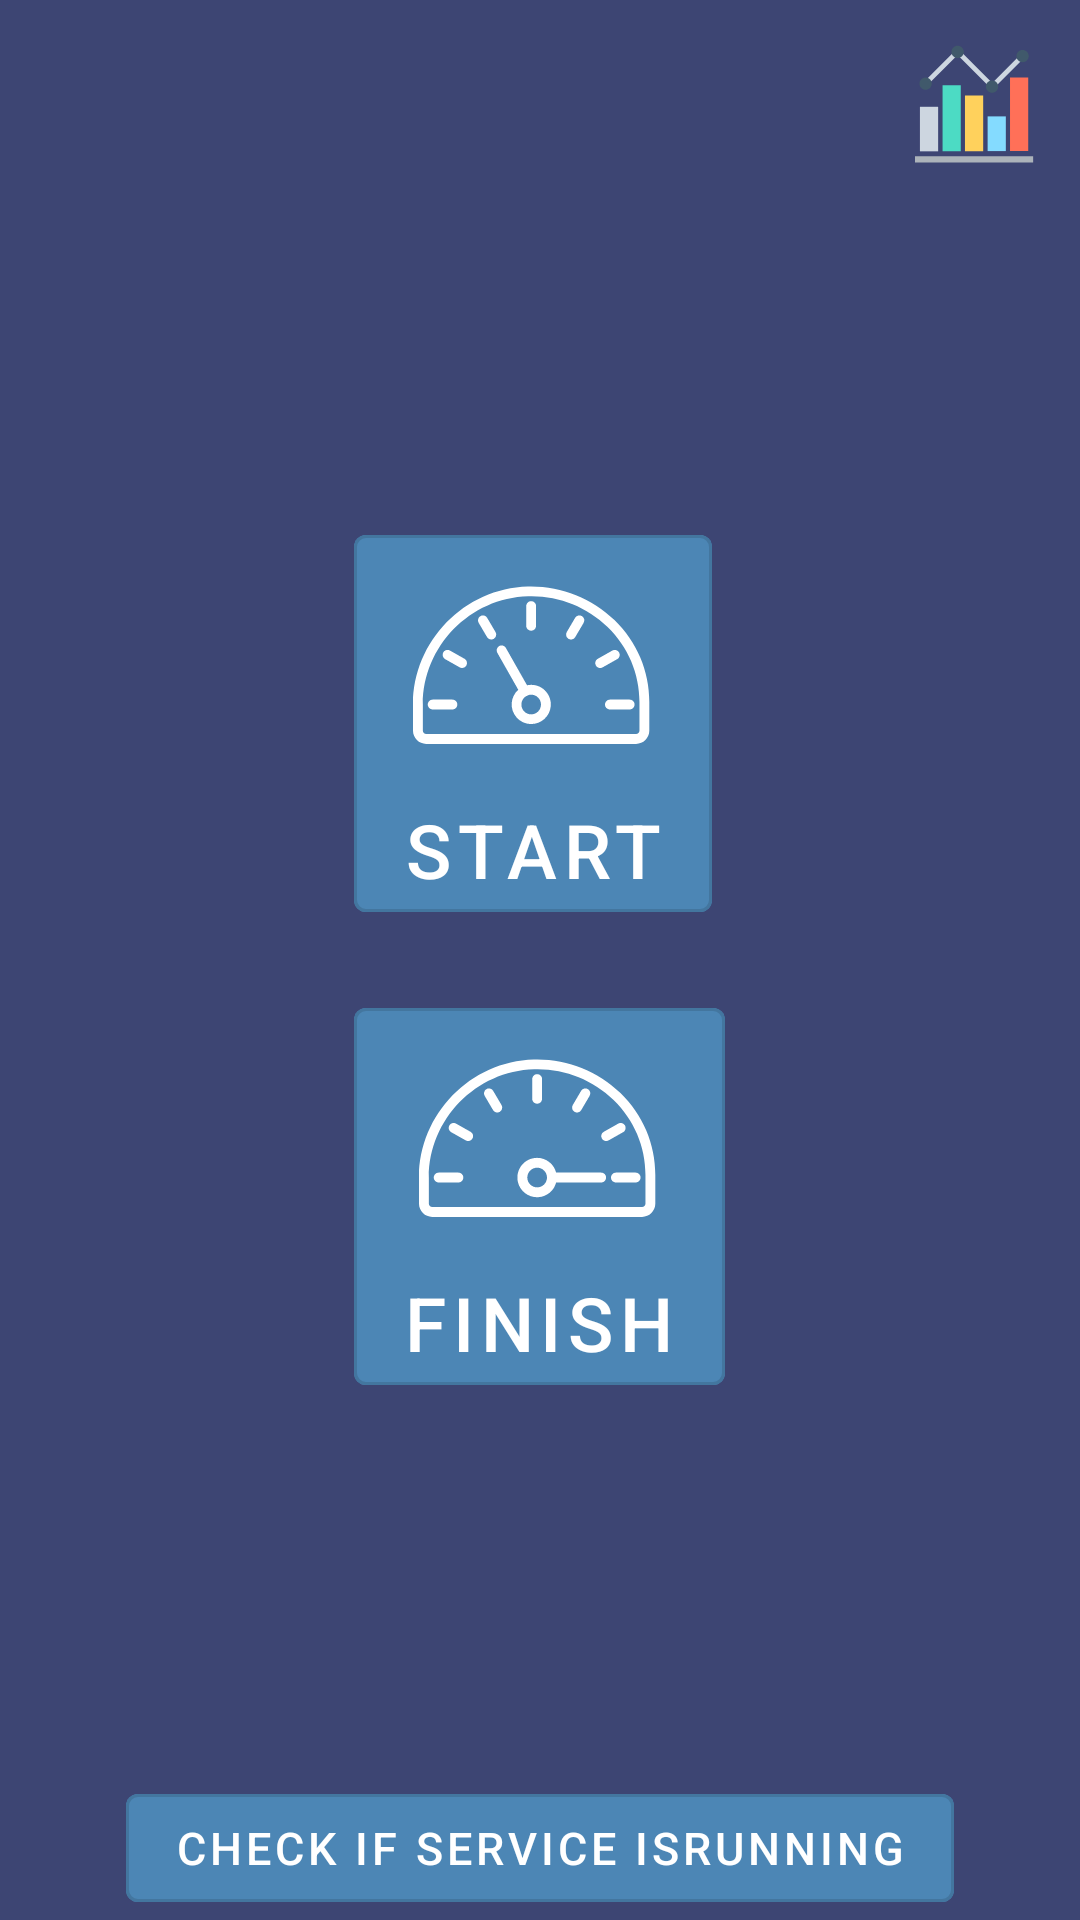

Point at icon controls on the screen. Image size 1080×1920, points as [x,y].
bar chart: [974,108]
